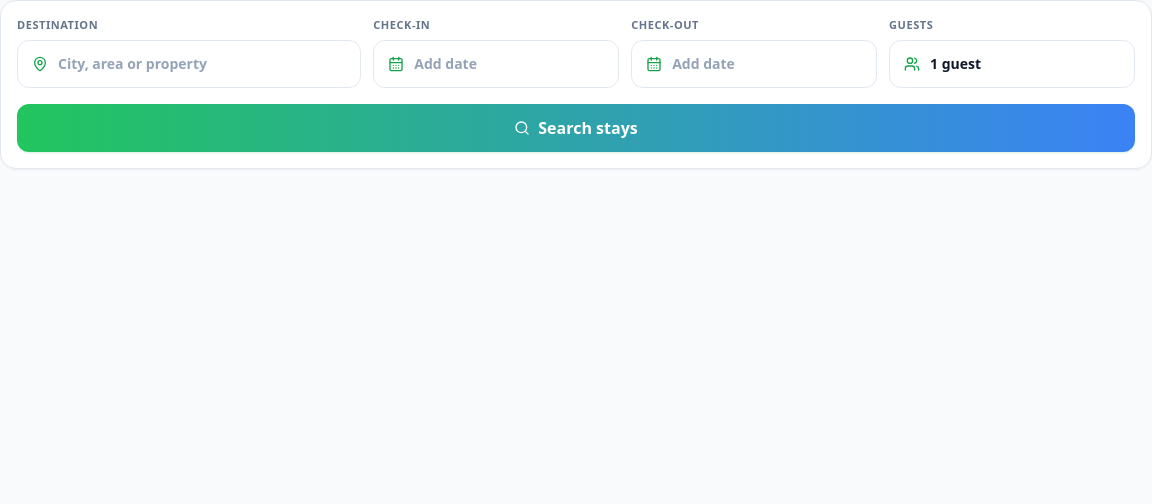
Test: StaySearch pickers › suggests matching properties and areas for the destination
Type "oot" into the search field named "Destination". click: (202, 64)
box: [58, 54, 346, 74]
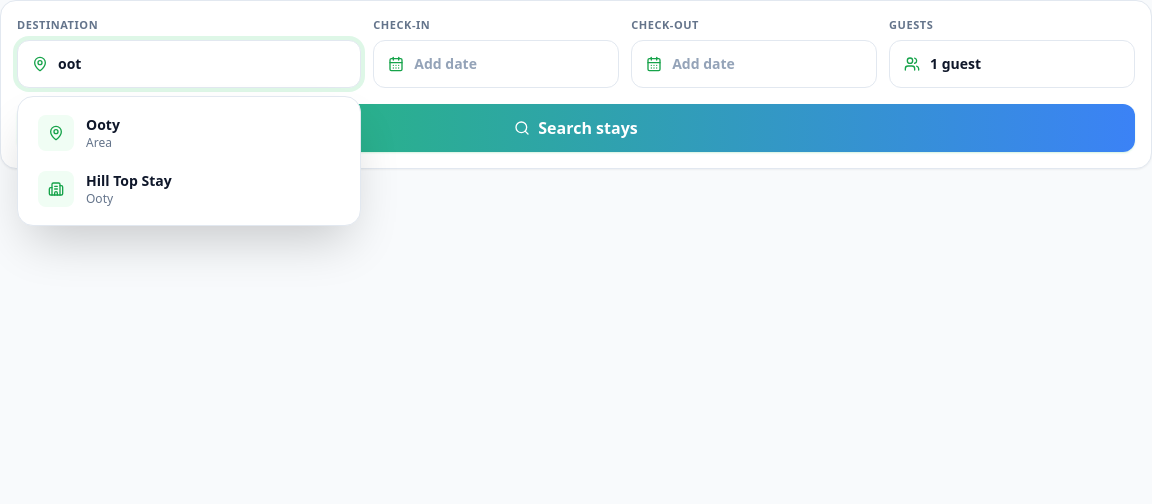
Check: the text "Hill Top Stay" is shown
Click the text "Hill Top Stay". click: (129, 180)
box: [86, 170, 172, 190]
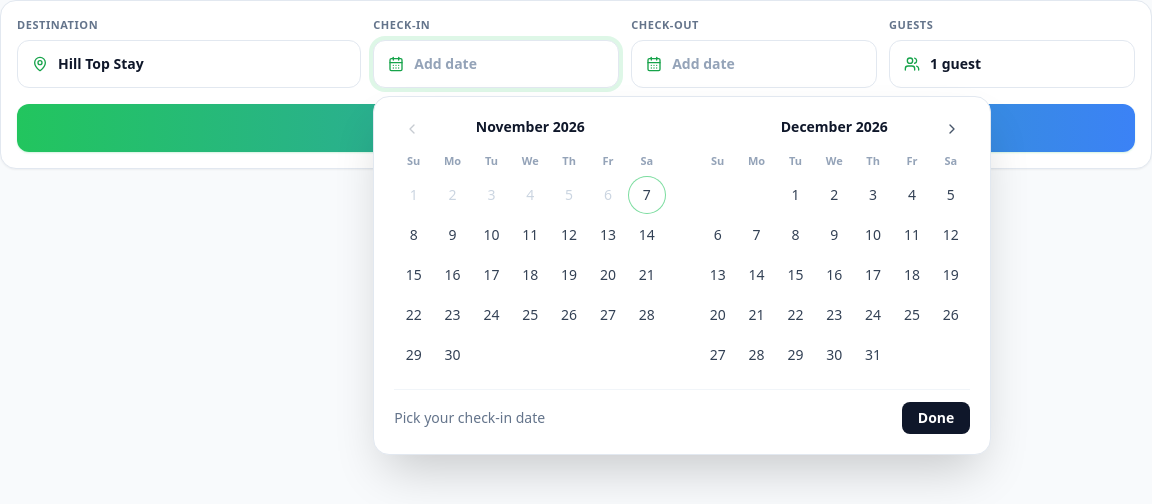
Check: the search field named "Destination" holds "Hill Top Stay", box [58, 54, 346, 74]
